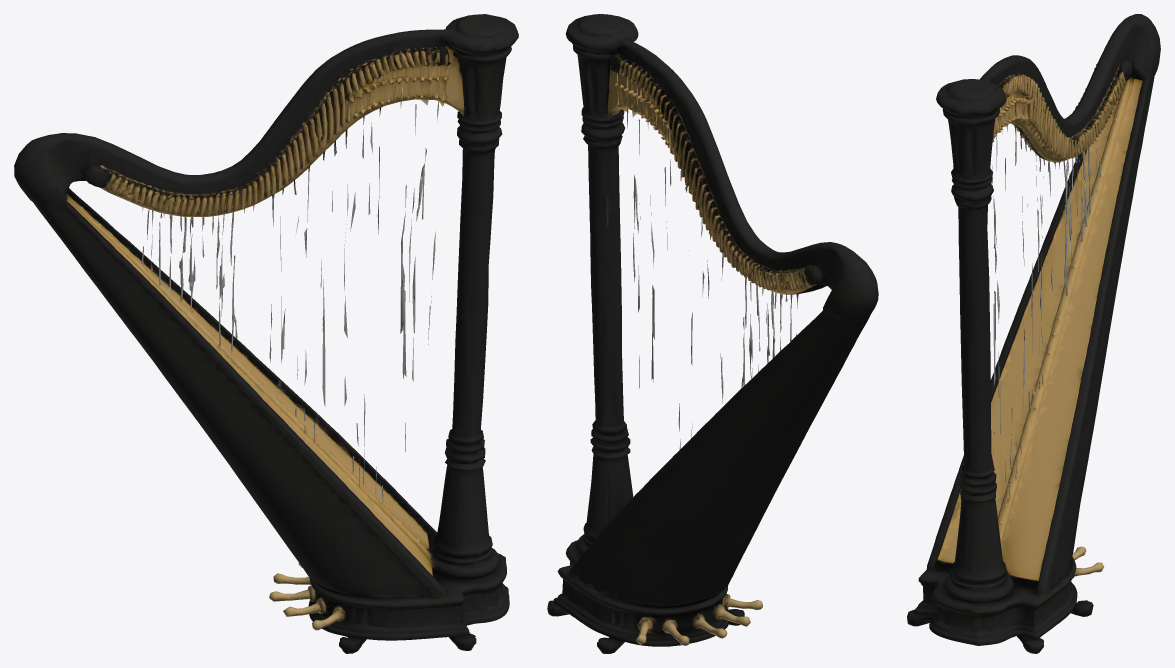
The model's file is harp.glb.
The picture shows the model from 3 angles, left to right: view 1: azimuth 30°, elevation 25°; view 2: azimuth 150°, elevation 25°; view 3: azimuth 270°, elevation 25°; orthographic projection. The views are drawn at different scales.
Visible parts, largest first — view 1: tripo_node_53278b82-253f-474f-a583-02b69392b35d; view 2: tripo_node_53278b82-253f-474f-a583-02b69392b35d; view 3: tripo_node_53278b82-253f-474f-a583-02b69392b35d.
Part boxes in pixels (left/top/right/bottom): tripo_node_53278b82-253f-474f-a583-02b69392b35d: left=14, top=14, right=518, bottom=653; tripo_node_53278b82-253f-474f-a583-02b69392b35d: left=547, top=14, right=878, bottom=653; tripo_node_53278b82-253f-474f-a583-02b69392b35d: left=907, top=14, right=1160, bottom=653.
Size of the model in its own units: 1.07 by 1.5 by 0.6176.
Materials: 1 (1 with a texture image).
